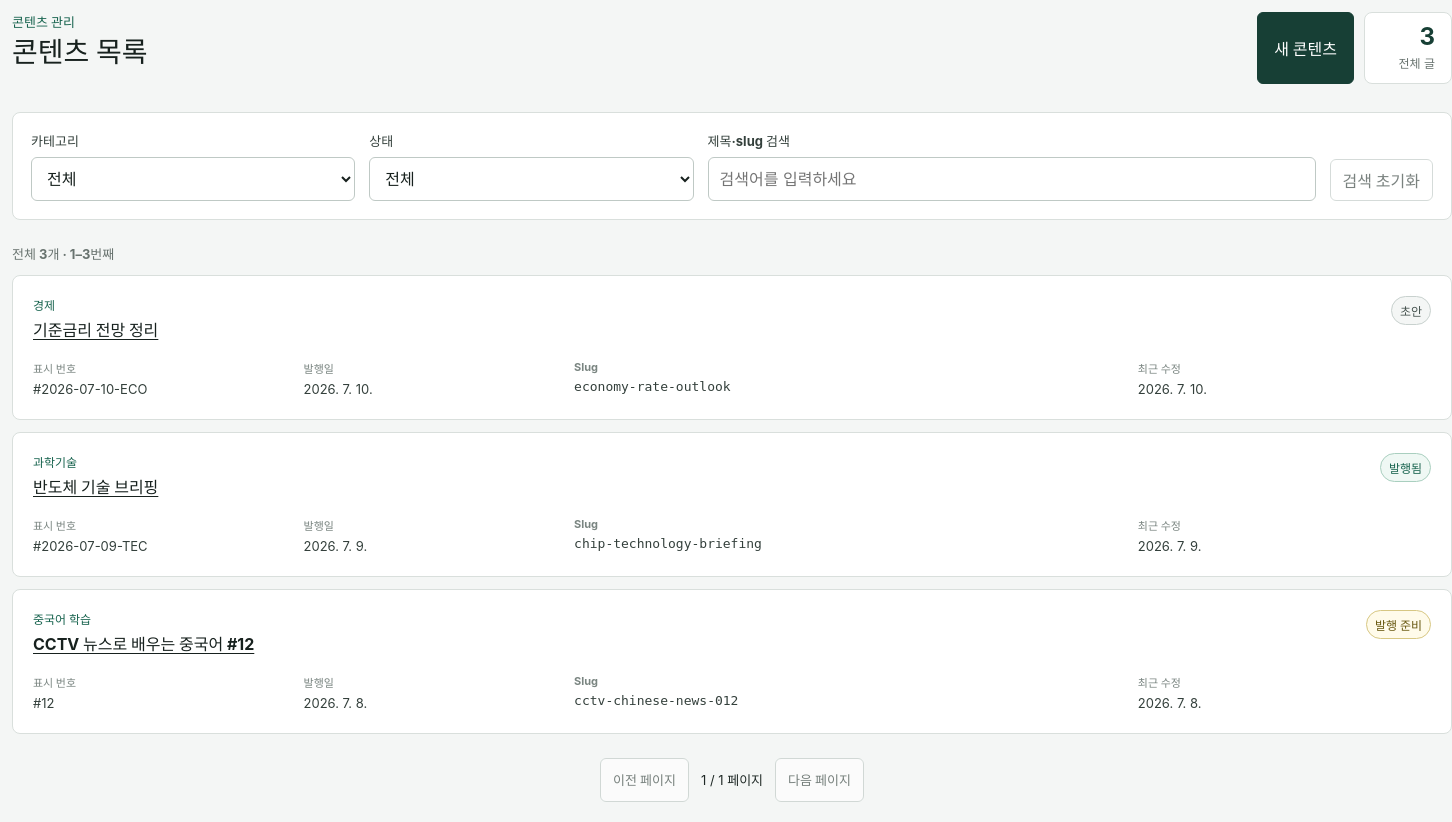
Test: ContentPage › filters posts by status
This screenshot has width=1452, height=822.
Expected: the heading "기준금리 전망 정리" is shown, left=33, top=318, right=158, bottom=342
Select "발행됨" in the dropdown labelled "상태" at (531,179), box left=369, top=157, right=694, bottom=201
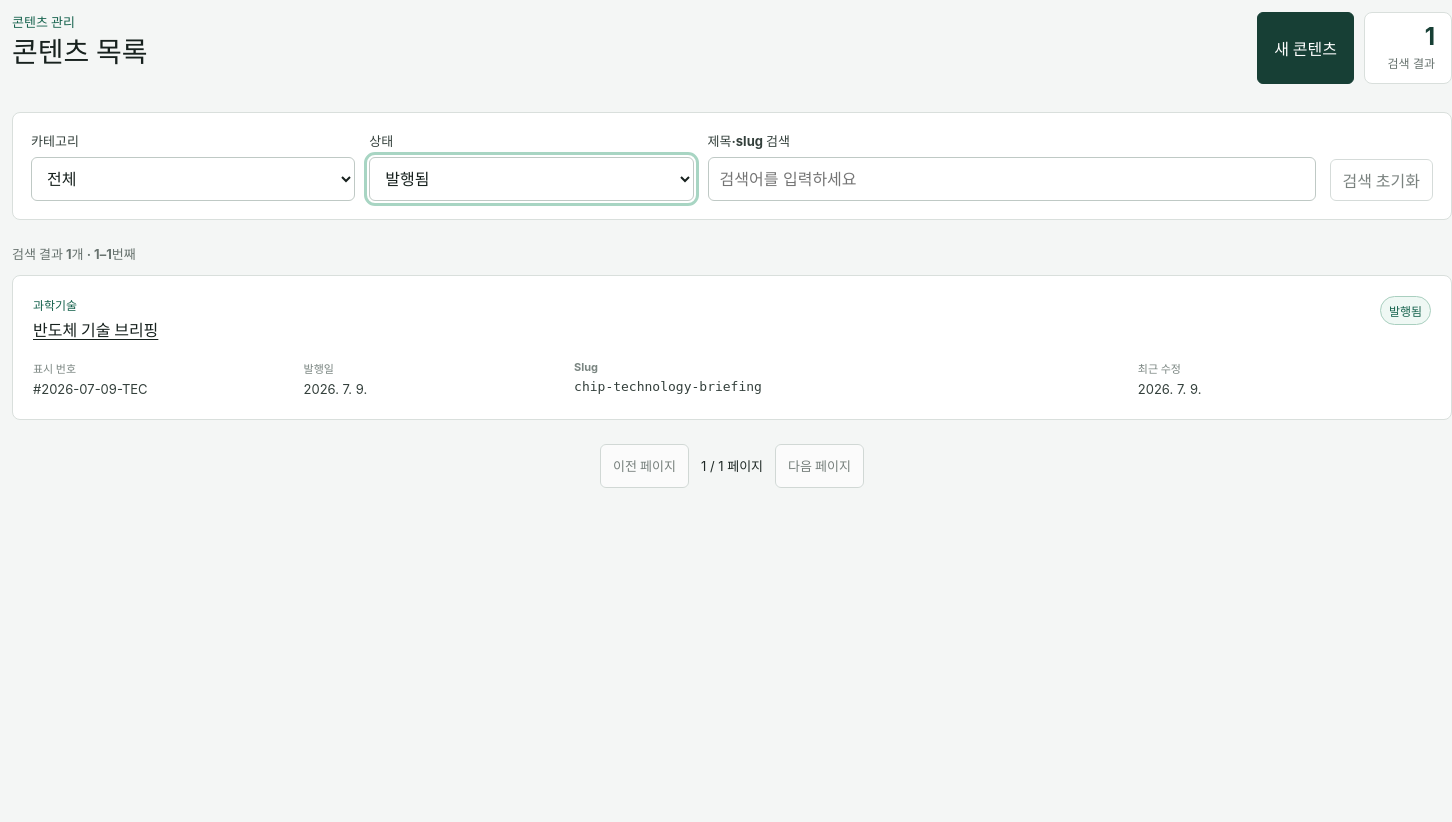
Expected: the heading "반도체 기술 브리핑" is shown, left=33, top=318, right=158, bottom=342
Expected: the link "기준금리 전망 정리" is gone
